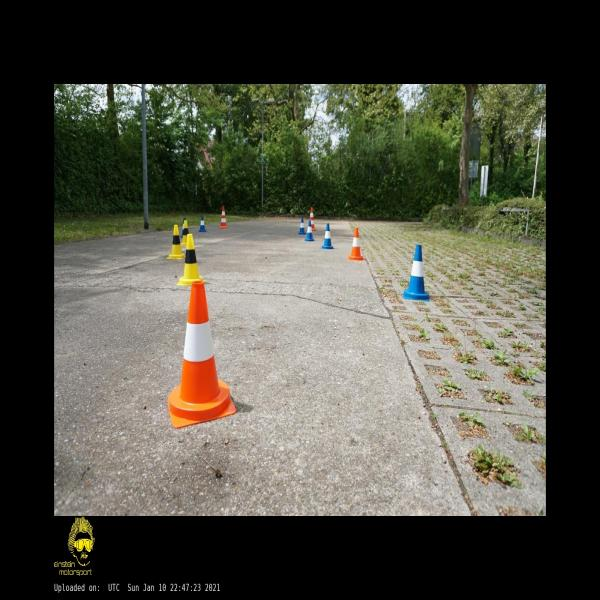blue_cone: (403, 245, 430, 302), (320, 223, 336, 250), (305, 220, 316, 242), (298, 217, 306, 235), (180, 217, 186, 238), (199, 216, 206, 232)
large_orange_cone: (219, 206, 228, 228), (310, 207, 316, 231)
orange_cone: (168, 282, 236, 428), (346, 227, 366, 261)
yellow_cone: (177, 234, 203, 286), (166, 224, 185, 260), (181, 219, 189, 246)
